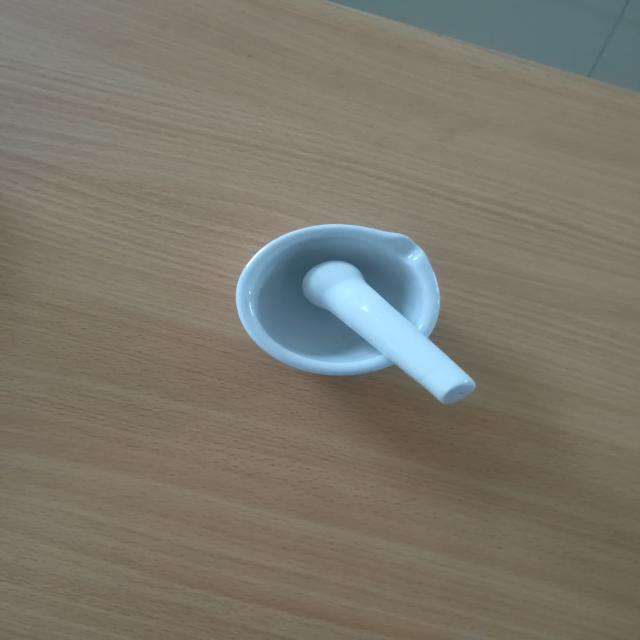Porcelain_Mortar Pestle: (211, 192, 528, 439)
